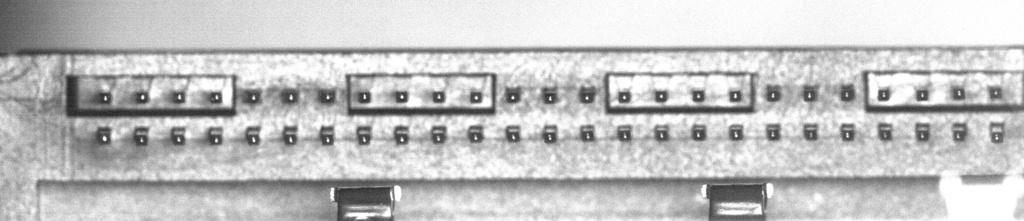pin_ok: (579, 84, 598, 103), (281, 86, 301, 104), (170, 126, 187, 146), (95, 125, 112, 144), (951, 122, 968, 141), (989, 121, 1005, 141), (468, 124, 485, 142), (207, 126, 223, 145), (654, 123, 671, 140), (505, 85, 521, 103), (543, 123, 559, 141), (915, 122, 931, 140), (877, 122, 893, 140), (766, 122, 782, 140), (840, 122, 856, 140), (245, 125, 261, 142), (766, 87, 782, 103), (802, 85, 818, 101), (580, 124, 596, 140), (431, 125, 447, 141), (505, 124, 521, 140), (616, 125, 632, 141), (357, 125, 372, 142), (692, 123, 707, 140), (395, 125, 410, 142), (616, 88, 632, 103), (729, 124, 744, 140), (283, 129, 298, 145), (244, 89, 261, 103), (727, 87, 742, 102), (134, 130, 149, 145), (951, 87, 967, 101), (841, 83, 855, 99), (804, 124, 818, 140), (208, 90, 223, 104), (543, 89, 558, 103), (654, 89, 669, 103), (320, 129, 334, 144), (915, 87, 929, 101), (172, 89, 187, 102), (136, 89, 149, 103), (395, 90, 409, 103), (433, 89, 446, 103), (877, 84, 889, 99), (693, 88, 705, 102), (99, 92, 112, 104), (991, 86, 1004, 98), (469, 89, 481, 102), (359, 91, 371, 103), (322, 90, 334, 102)
